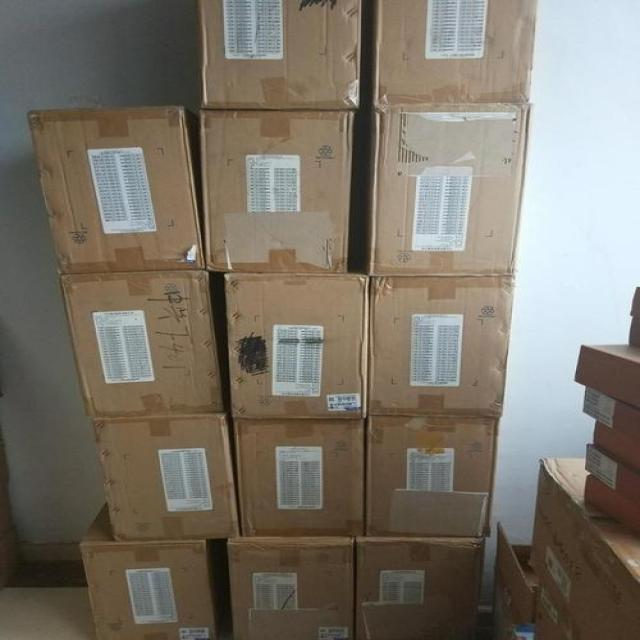box: (348, 97, 533, 276), (27, 107, 205, 274), (199, 109, 354, 273), (59, 269, 225, 416), (224, 259, 368, 419), (368, 275, 516, 417), (529, 457, 639, 639), (80, 501, 224, 639), (91, 409, 240, 542), (359, 0, 539, 105), (198, 0, 362, 110), (364, 415, 501, 537), (232, 417, 364, 537), (353, 536, 485, 639), (227, 534, 355, 639), (492, 522, 539, 639), (574, 344, 639, 409), (582, 386, 639, 444), (583, 474, 639, 533), (585, 443, 639, 504), (593, 420, 639, 471), (629, 317, 639, 347), (630, 287, 639, 319)
